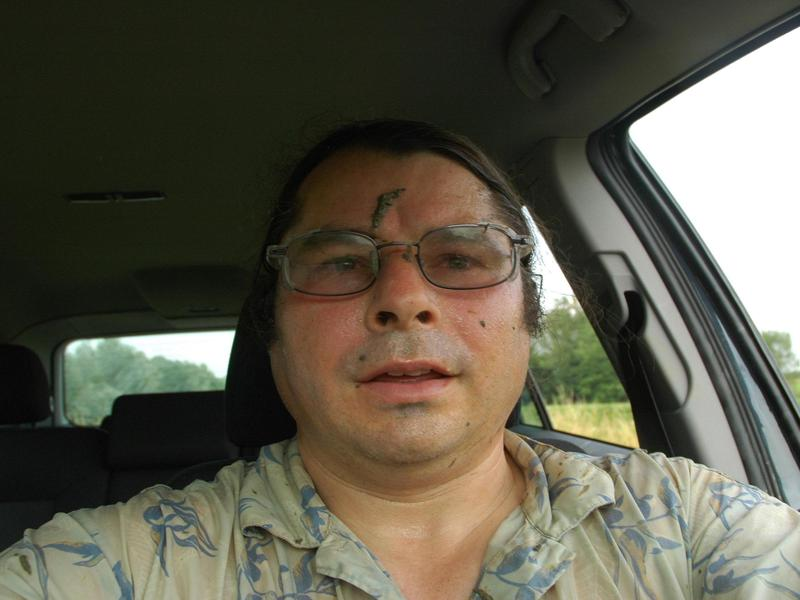person: (1, 118, 796, 599)
